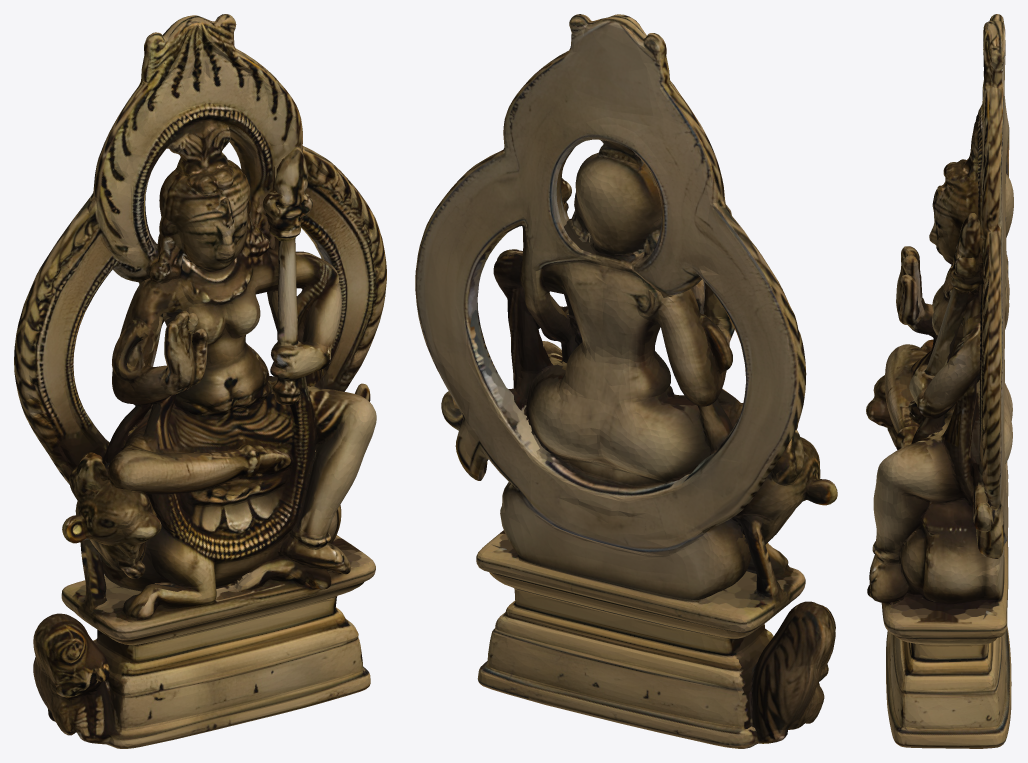
3 views of the same model, side by side, from view 1: azimuth 30°, elevation 25°; view 2: azimuth 150°, elevation 25°; view 3: azimuth 270°, elevation 25° (orthographic). The views are drawn at different scales.
Visible parts, largest first — view 1: textured_mesh; view 2: textured_mesh; view 3: textured_mesh.
Boxes of the visible parts, left/top/right/bottom form: textured_mesh: left=14, top=14, right=386, bottom=748; textured_mesh: left=415, top=14, right=837, bottom=748; textured_mesh: left=866, top=14, right=1013, bottom=748.
Size of the model in its own units: 1.16 by 1.98 by 0.402.
1 material, 1 textured.
